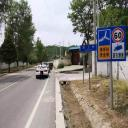speed_limit_60: (112, 28, 124, 42)
